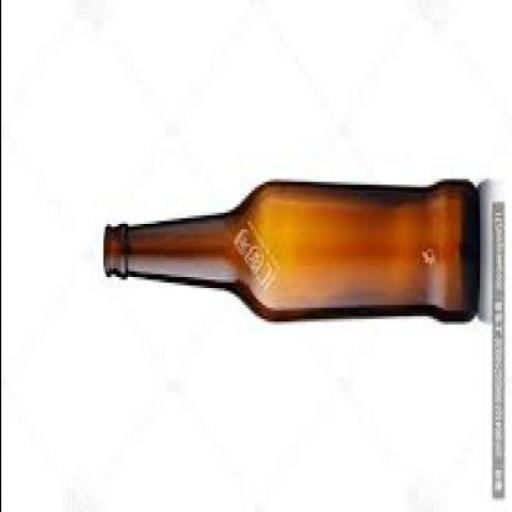glass: (100, 182, 477, 328)
